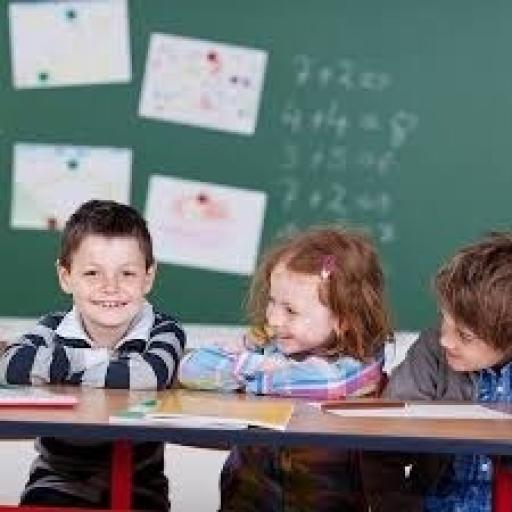sitting: (0, 193, 510, 510), (177, 223, 396, 510), (0, 196, 189, 510), (380, 230, 510, 510)
